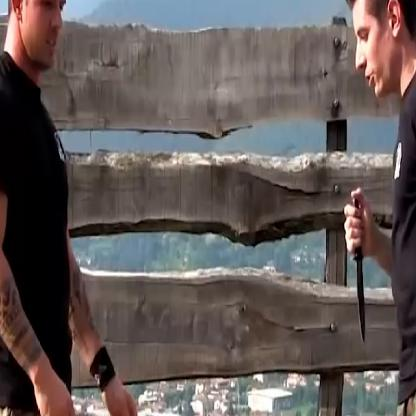knife: (336, 181, 372, 348)
